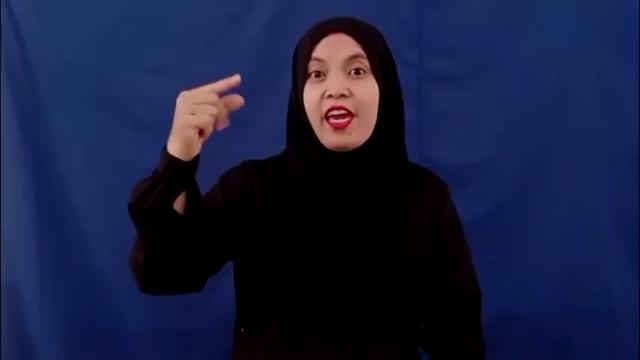G: (172, 72, 246, 154)
